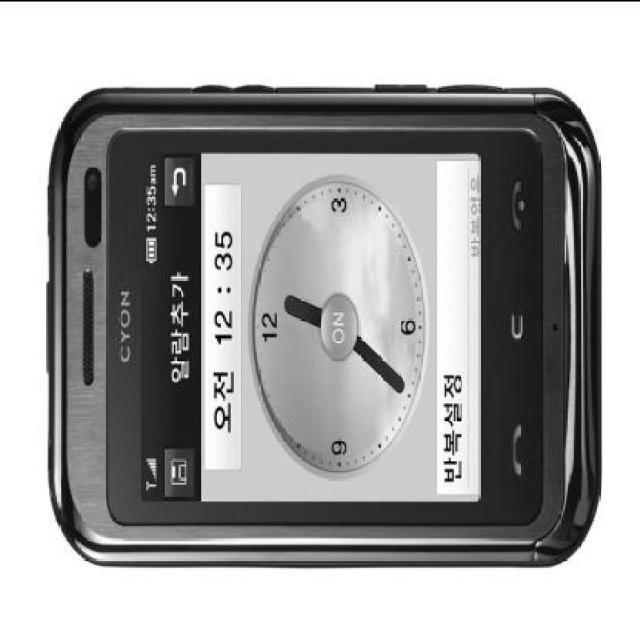fake: (46, 84, 600, 568)
